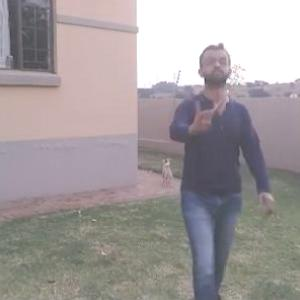takeoff-hand: (187, 97, 221, 137)
